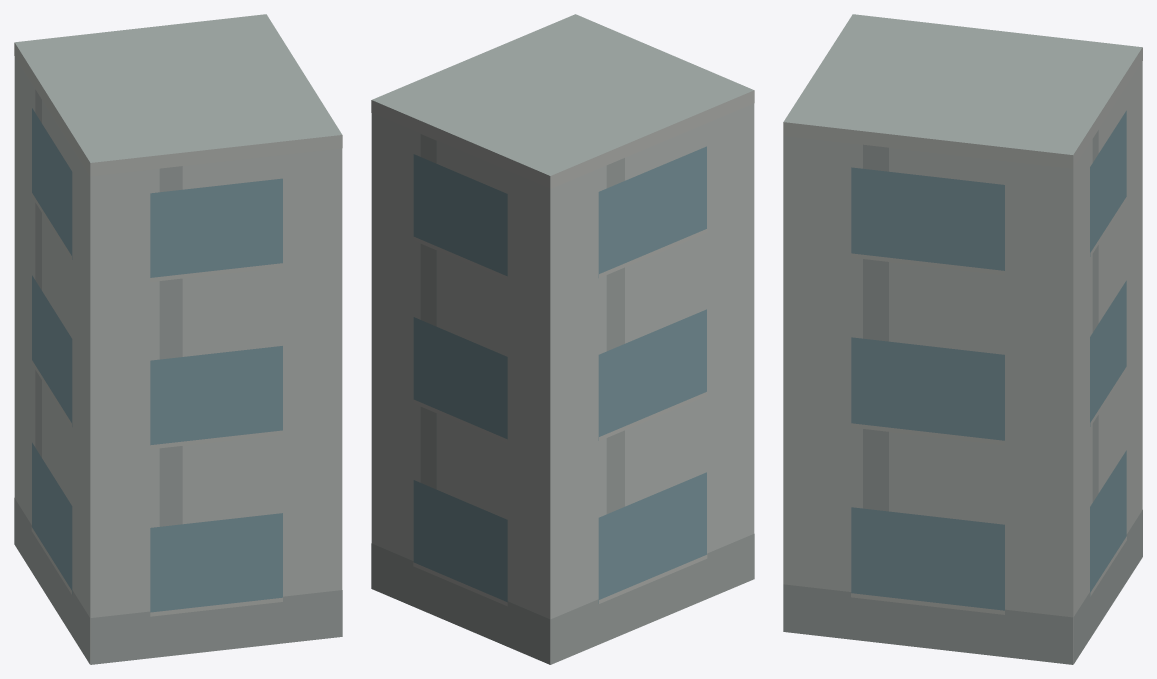
File: survey-upis-32911685.glb
The picture shows the model from 3 angles, left to right: view 1: azimuth 30°, elevation 25°; view 2: azimuth 150°, elevation 25°; view 3: azimuth 270°, elevation 25°; orthographic projection. The views are drawn at different scales.
Visible parts, largest first — view 1: survey-upis-32911685.tmp; view 2: survey-upis-32911685.tmp; view 3: survey-upis-32911685.tmp.
Part boxes in pixels (box(x1,y1,x2,y2)): survey-upis-32911685.tmp: box(14, 14, 342, 664); survey-upis-32911685.tmp: box(371, 14, 754, 664); survey-upis-32911685.tmp: box(783, 14, 1142, 664).
Bounding box in the file's own units: 5.44 × 9.15 × 5.86.
